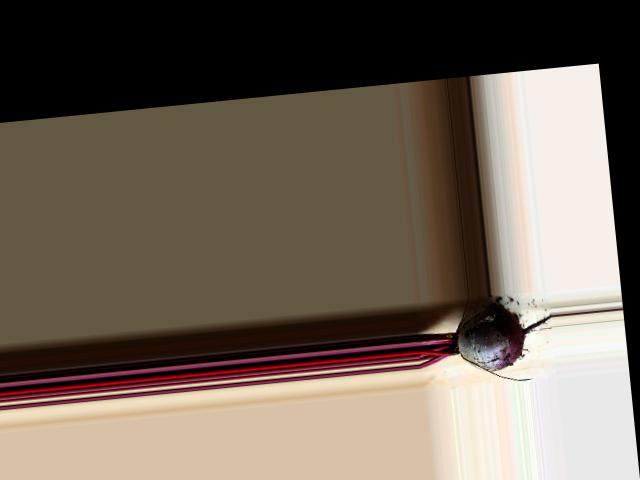beet: (415, 298, 559, 390)
